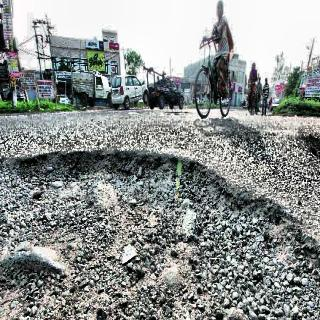pothole: (3, 139, 319, 320)
